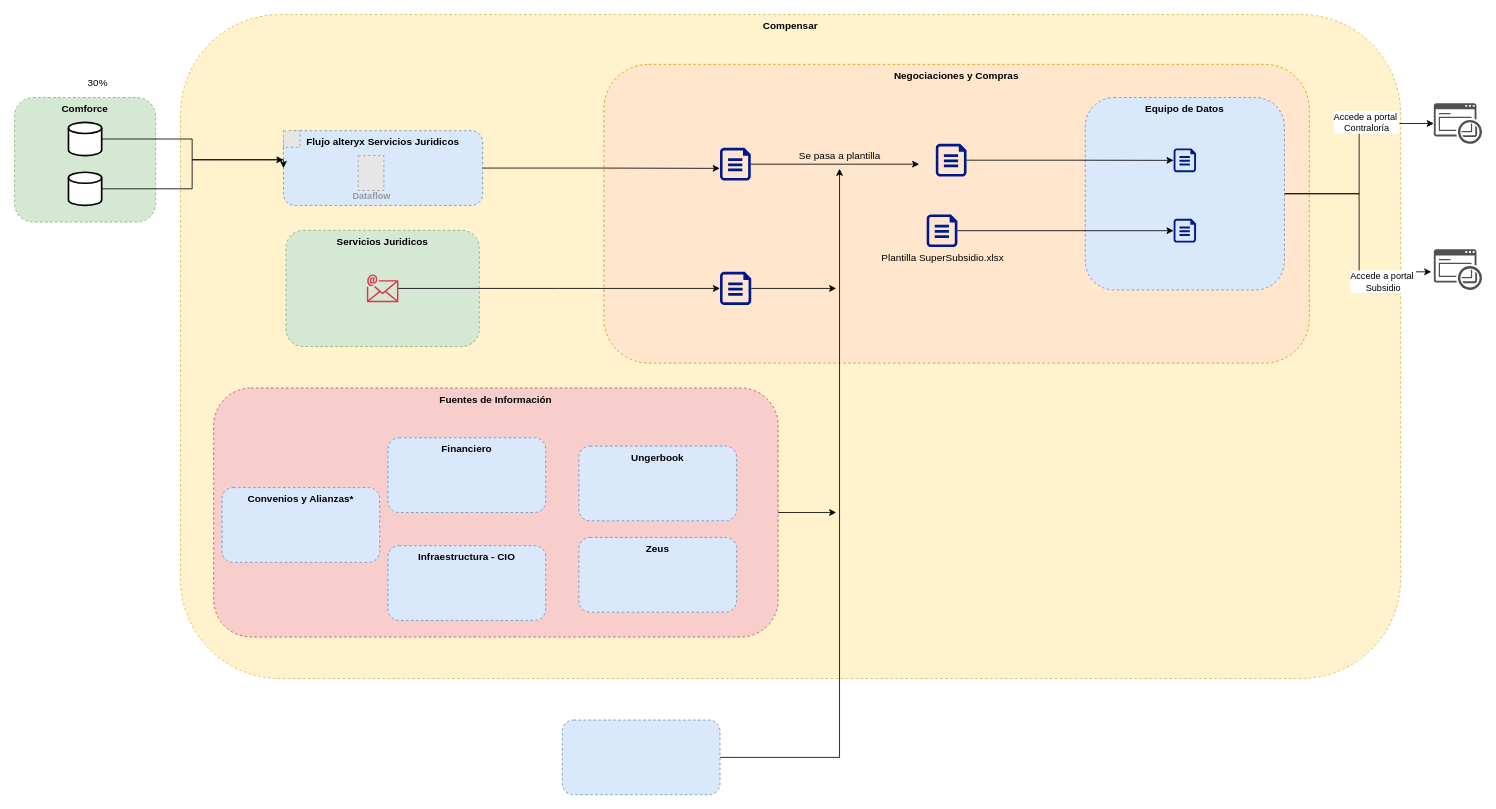
The diagram is 1496 pixels wide and 809 high, and some of its shapes have lost their labels. Grey dashed boxes stand in for pictures. The shapes that lost their labels are listed below. From the top down, each one's centre as x and y in pixels, then its label:
(735,163): Consolidado datos juridicos del contrato.xlsx
(950,159): Plantilla Contraloría.xlsx
(1184,160): Informe Contraloría
(1184,230): Informe SuperSubsidio
(640,757): SAP
